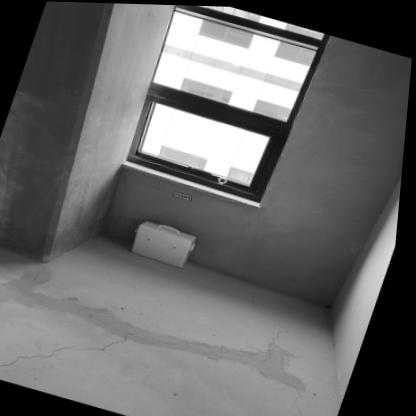DDL: (129, 215, 204, 269)
